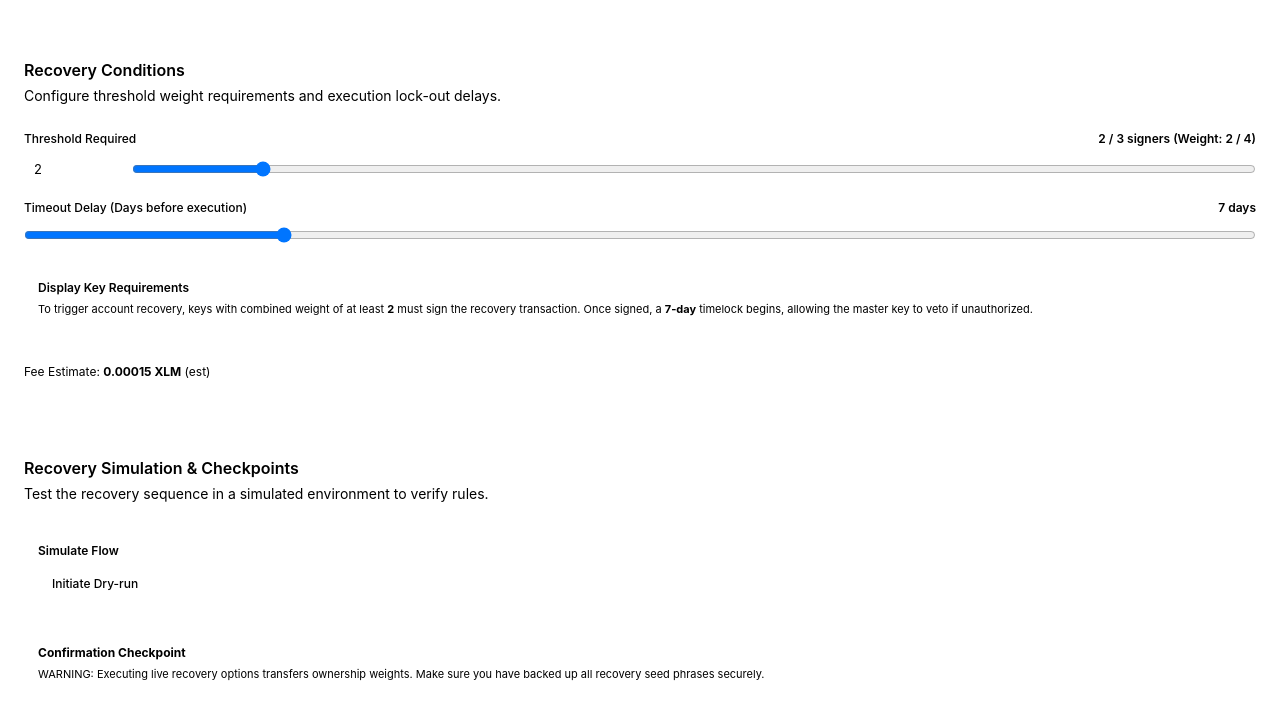
Test case: RecoveryScreen › runs the dry-run recovery simulation
(page scrolled)
What coordinates should you click on to do the following:
click the button "Initiate Dry-run"
I would click on:
 (95, 584)
Its box is [38,568,152,600].
Wait 1600 ms
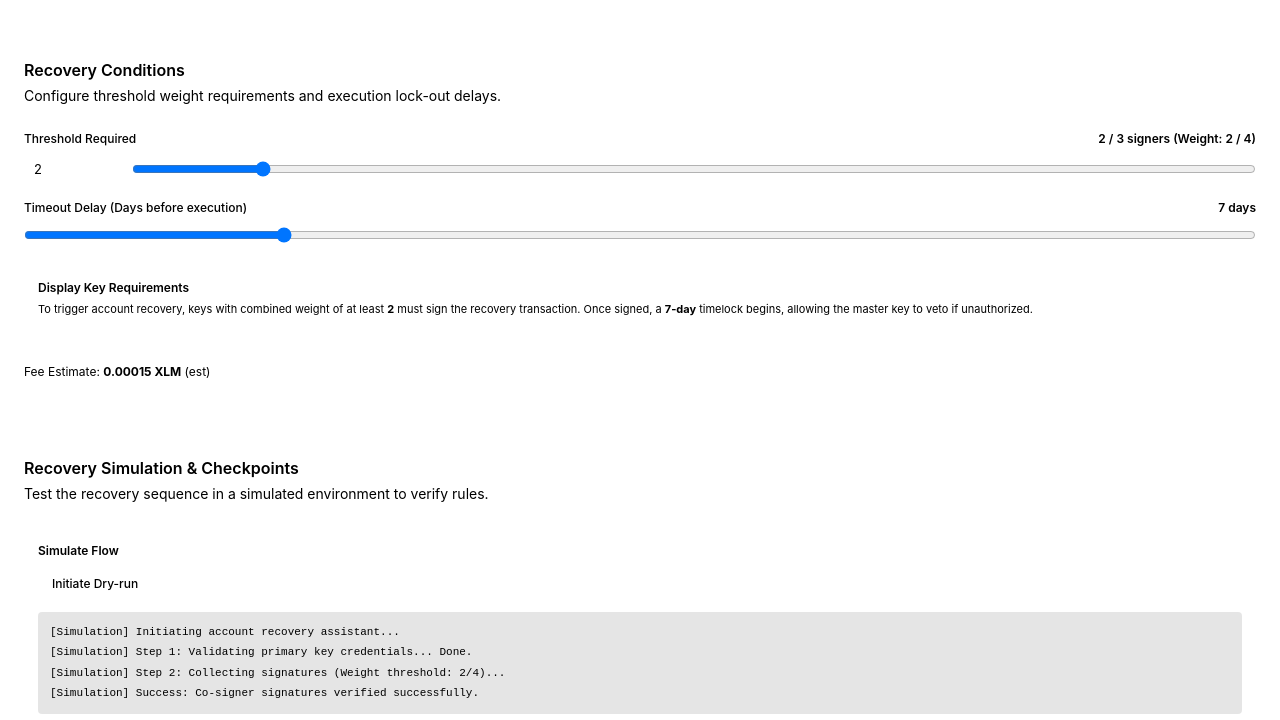
Now the text "[Simulation] Initiating account recovery assistant..." is shown, box [50,626,400,638]
Now the text "Step 1: Validating primary key credentials" is shown, box [50,646,472,658]
Now the text "Success: Co-signer signatures verified successfully" is shown, box [50,687,479,699]
